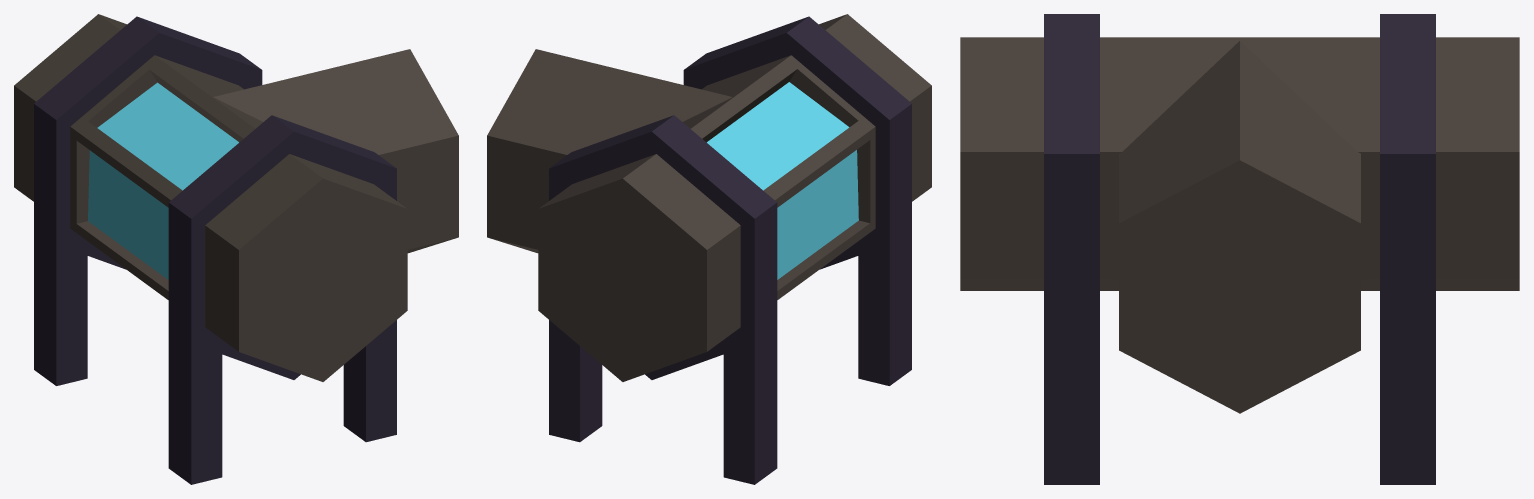
The model's file is TPipeLow2.fbx.
3 renders of one model, left to right at view 1: azimuth 30°, elevation 25°; view 2: azimuth 150°, elevation 25°; view 3: azimuth 270°, elevation 25°, orthographic. The views are drawn at different scales.
Visible parts, largest first — view 1: TPipe_LOD2; view 2: TPipe_LOD2; view 3: TPipe_LOD2.
Part boxes in pixels (left/top/right/bottom): TPipe_LOD2: left=14, top=14, right=458, bottom=484; TPipe_LOD2: left=487, top=14, right=931, bottom=484; TPipe_LOD2: left=960, top=14, right=1519, bottom=484.
Bounding box in the file's own units: 76.43 × 80.56 × 100.
